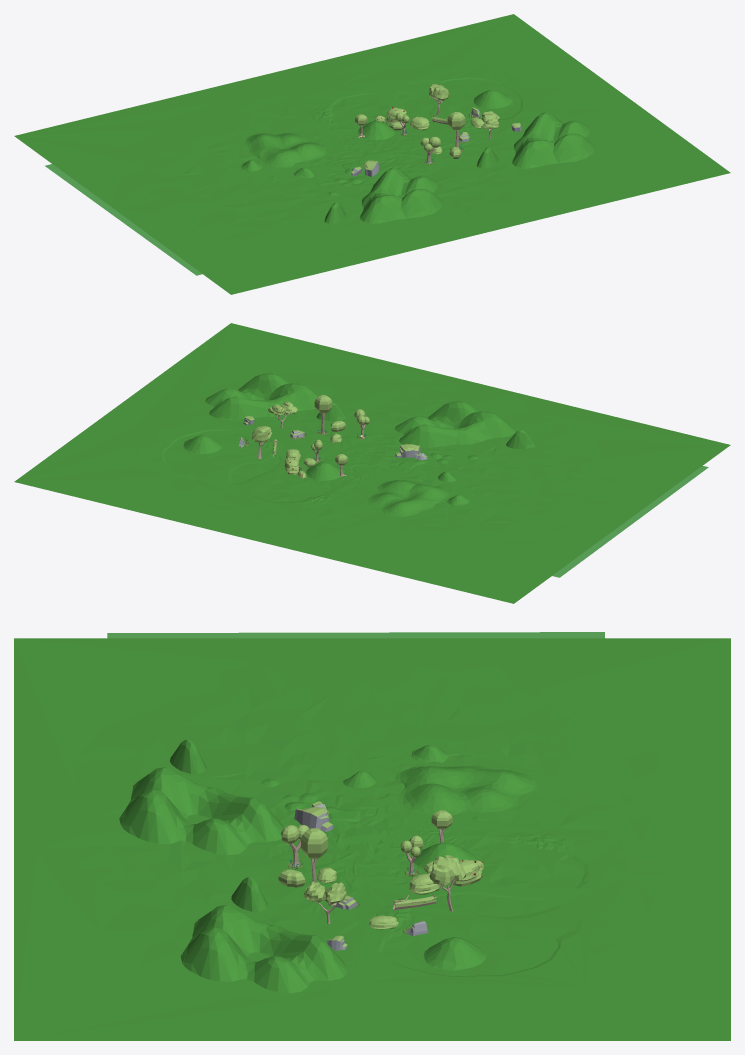
The model's file is roguelite_terrain.fbx.
3 renders of one model, top to bottom at view 1: azimuth 30°, elevation 25°; view 2: azimuth 150°, elevation 25°; view 3: azimuth 270°, elevation 25°, orthographic. The views are drawn at different scales.
Visible parts, largest first — view 1: Terrain_Part_Plane_4.002, Terrain_Part_Plane_3, Terrain_Part_Plane_3.001, Terrain_Part_Plane_2.002, Terrain_Part_Plane_2.001, Terrain_Part_Plane_2, Terrain_Part_Plane_4.001, Plane, Terrain_Part_Plane_5; view 2: Terrain_Part_Plane_4.002, Terrain_Part_Plane_3, Terrain_Part_Plane_2.001, Terrain_Part_Plane_3.001, Terrain_Part_Plane_2.002, Terrain_Part_Plane_2, Terrain_Part_Plane_4.001, Plane, Terrain_Part_Plane_5; view 3: Terrain_Part_Plane_4.002, Terrain_Part_Plane_3, Terrain_Part_Plane_2.002, Terrain_Part_Plane_2.001, Terrain_Part_Plane_3.001, Terrain_Part_Plane_2, Terrain_Part_Plane_4.001, Plane, Terrain_Part_Plane_5, CommonTree_5_Cube.014, CommonTree_1_Cube.049, Rock_Moss_6_Cube.001 (+1 smaller).
Boxes of the visible parts, bbox=[...] form: Terrain_Part_Plane_4.002: bbox=[14, 14, 730, 294]; Terrain_Part_Plane_3: bbox=[367, 62, 555, 139]; Terrain_Part_Plane_3.001: bbox=[291, 81, 455, 155]; Terrain_Part_Plane_2.002: bbox=[476, 112, 595, 168]; Terrain_Part_Plane_2.001: bbox=[324, 167, 443, 223]; Terrain_Part_Plane_2: bbox=[231, 130, 329, 177]; Terrain_Part_Plane_4.001: bbox=[199, 110, 503, 204]; Plane: bbox=[45, 164, 202, 275]; Terrain_Part_Plane_5: bbox=[294, 162, 362, 195]; Terrain_Part_Plane_4.002: bbox=[14, 323, 730, 603]; Terrain_Part_Plane_3: bbox=[125, 415, 312, 496]; Terrain_Part_Plane_2.001: bbox=[394, 401, 536, 448]; Terrain_Part_Plane_3.001: bbox=[198, 437, 395, 519]; Terrain_Part_Plane_2.002: bbox=[205, 373, 346, 420]; Terrain_Part_Plane_2: bbox=[357, 475, 486, 523]; Terrain_Part_Plane_4.001: bbox=[231, 415, 541, 518]; Plane: bbox=[552, 465, 708, 577]; Terrain_Part_Plane_5: bbox=[398, 453, 478, 481]; Terrain_Part_Plane_4.002: bbox=[14, 638, 730, 1040]; Terrain_Part_Plane_3: bbox=[353, 884, 595, 986]; Terrain_Part_Plane_2.002: bbox=[180, 877, 347, 993]; Terrain_Part_Plane_2.001: bbox=[119, 739, 284, 854]; Terrain_Part_Plane_3.001: bbox=[352, 813, 625, 930]; Terrain_Part_Plane_2: bbox=[361, 736, 562, 821]; Terrain_Part_Plane_4.001: bbox=[225, 716, 505, 937]; Plane: bbox=[107, 632, 604, 638]; Terrain_Part_Plane_5: bbox=[261, 771, 376, 821]; CommonTree_5_Cube.014: bbox=[429, 855, 465, 911]; CommonTree_1_Cube.049: bbox=[304, 881, 346, 923]; Rock_Moss_6_Cube.001: bbox=[294, 807, 333, 831].
Size of the model in its own units: 11738 by 1187 by 8697.
